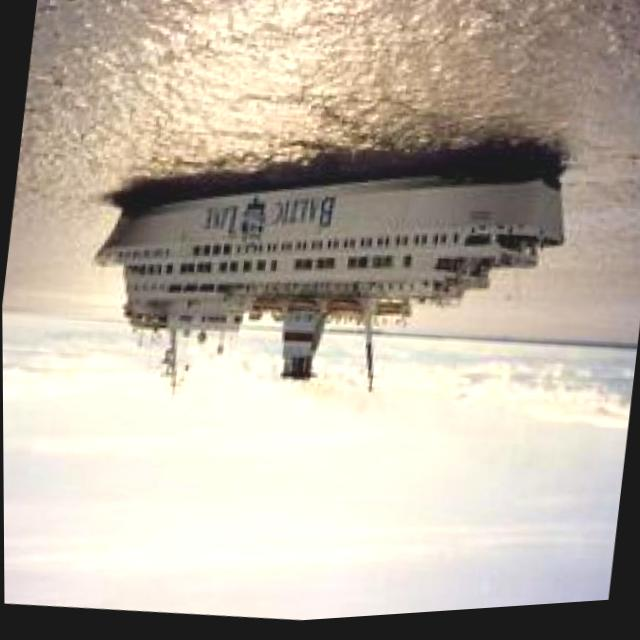ship2: (92, 173, 566, 400)
